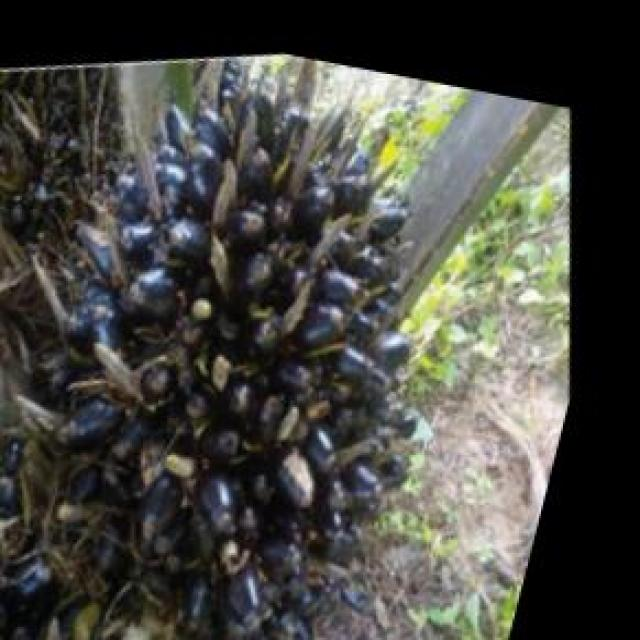Unripe: (0, 8, 563, 640), (0, 394, 145, 640)
